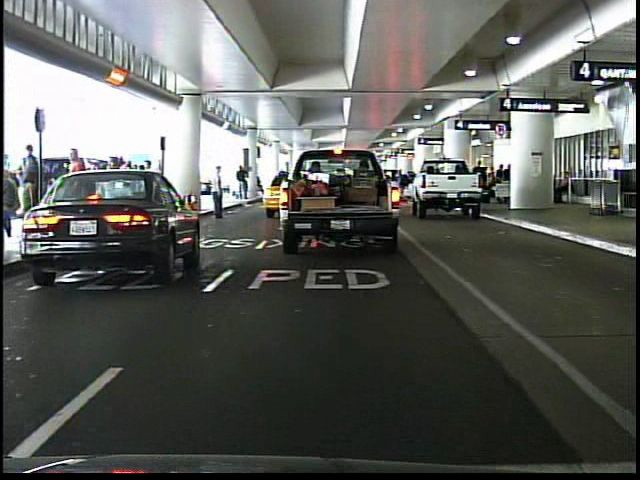person: (65, 146, 94, 234), (207, 162, 230, 224), (236, 162, 255, 198), (397, 167, 412, 211)
